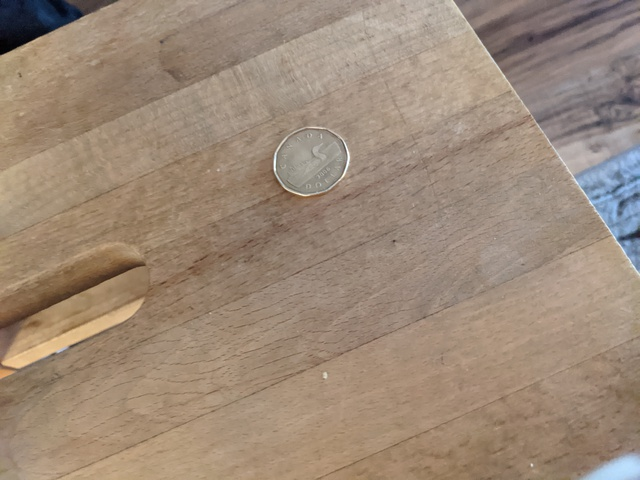loonie: (265, 120, 363, 204)
